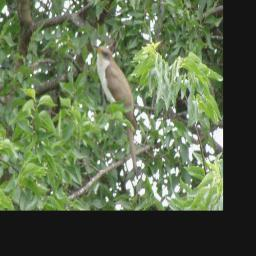Cuckoo: (90, 41, 141, 182)
